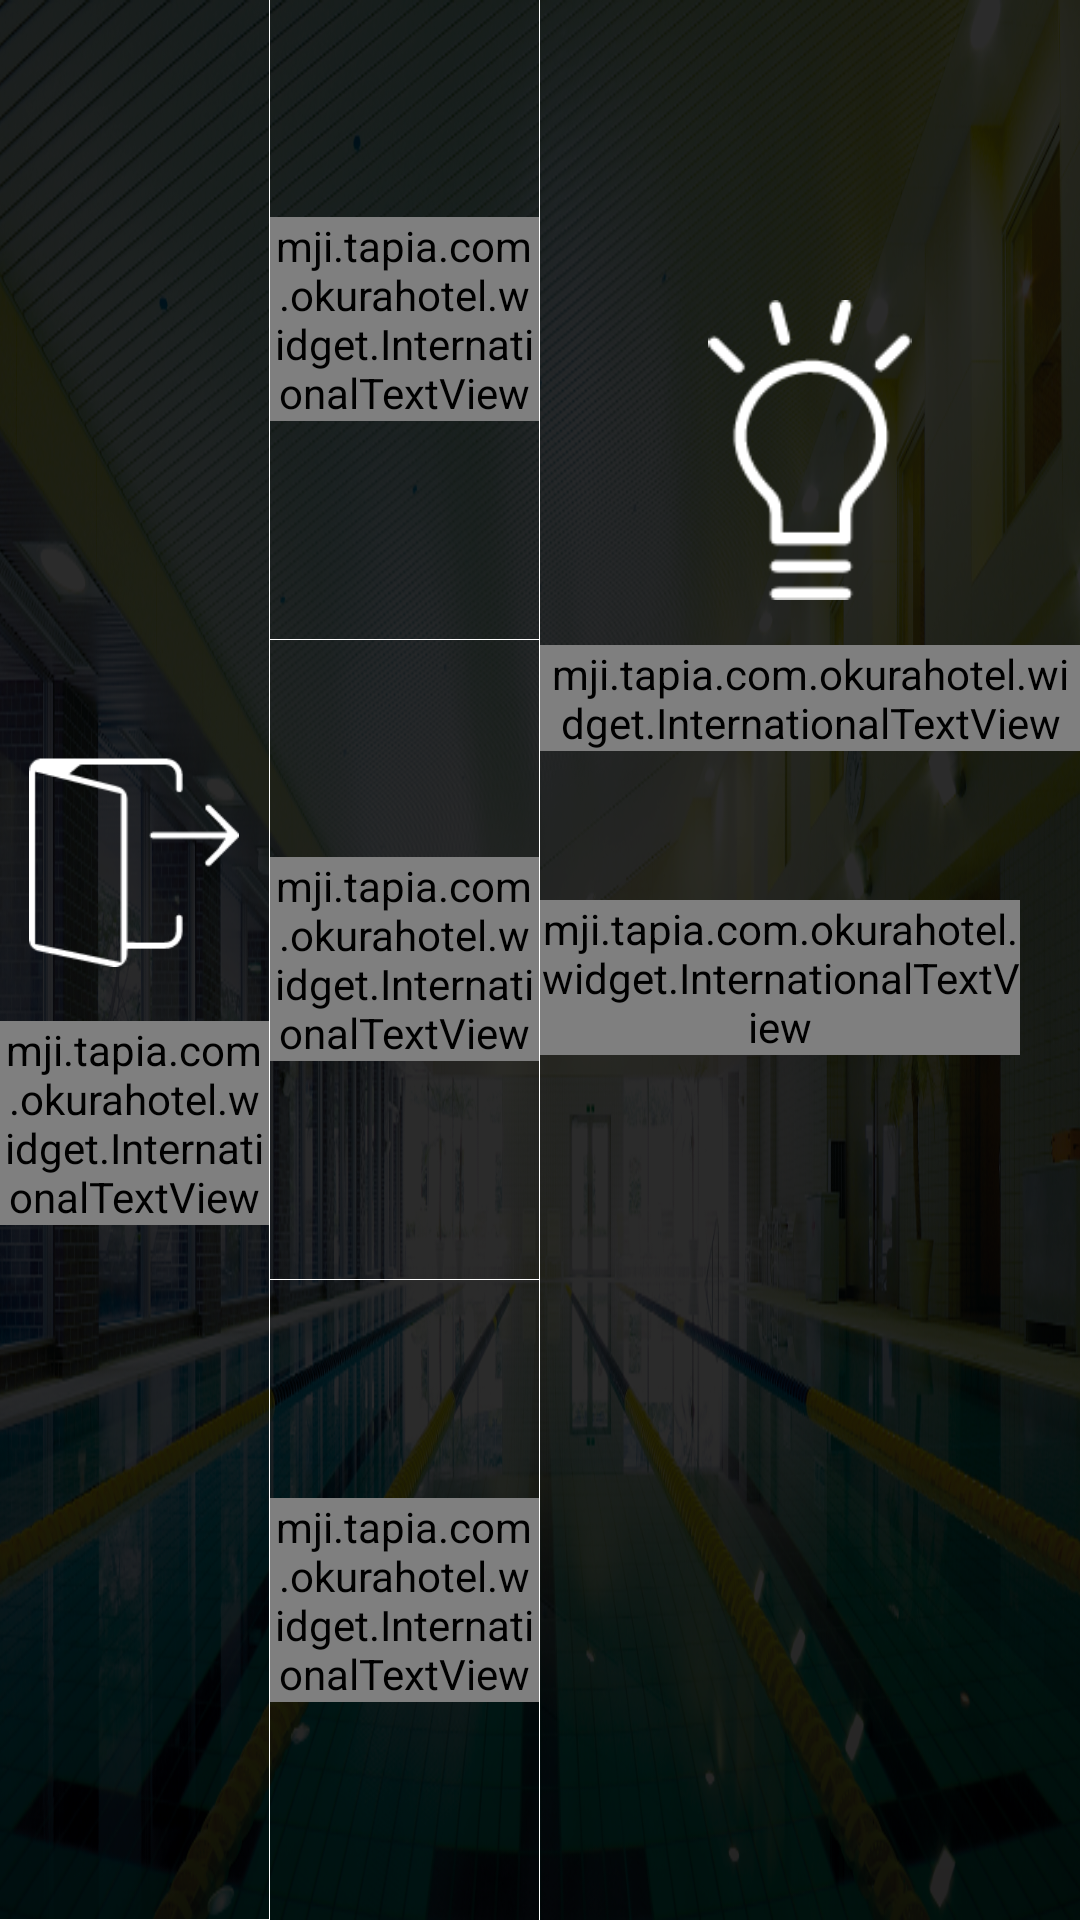

Locate icon controls on the screen. Image size 1080x1920, boxes as region(x1, y1, x2, y2).
okura exit: region(29, 758, 239, 967)
